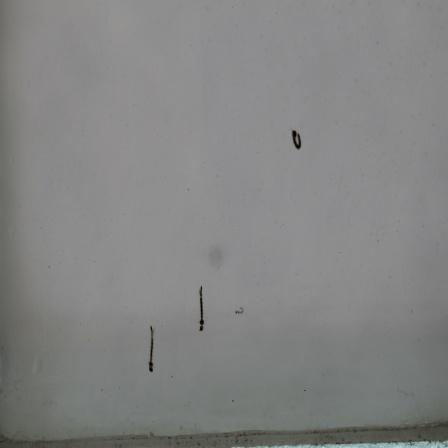Jentik-Nyamuk: (145, 322, 158, 374), (194, 284, 207, 333), (288, 125, 305, 154)
